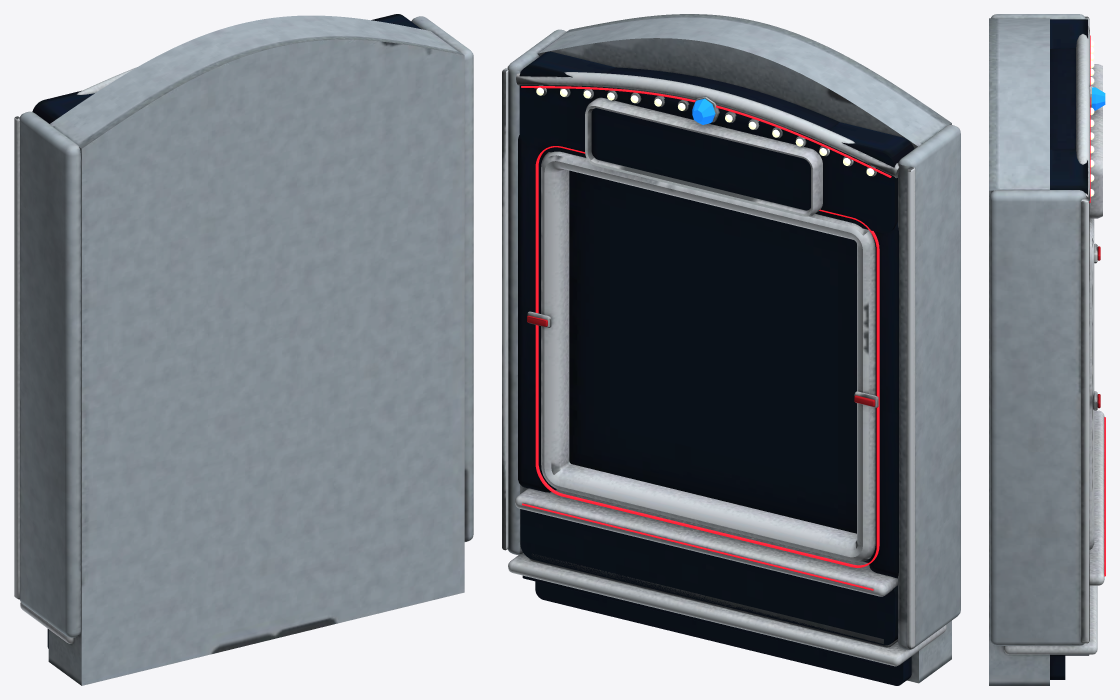
The picture shows the model from 3 angles, left to right: view 1: azimuth 30°, elevation 25°; view 2: azimuth 150°, elevation 25°; view 3: azimuth 270°, elevation 25°; orthographic projection. The views are drawn at different scales.
Parts seen in each view (by area): view 1: Brushed_steel, Clean_mirror_chrome, Navy_enamel; view 2: Navy_enamel, Clean_mirror_chrome, Brushed_steel, Red_pinstripe_glow, Warm_lamp_glow; view 3: Brushed_steel, Clean_mirror_chrome, Navy_enamel, Red_pinstripe_glow, Warm_lamp_glow, Blue_crystal_glow.
Boxes of the visible parts, left/top/right/bottom form: Brushed_steel: left=19, top=15, right=473, bottom=685; Clean_mirror_chrome: left=14, top=67, right=136, bottom=643; Navy_enamel: left=32, top=14, right=421, bottom=648; Navy_enamel: left=518, top=51, right=914, bottom=685; Clean_mirror_chrome: left=502, top=68, right=946, bottom=666; Brushed_steel: left=507, top=14, right=960, bottom=683; Red_pinstripe_glow: left=521, top=86, right=891, bottom=590; Warm_lamp_glow: left=536, top=87, right=874, bottom=175; Brushed_steel: left=989, top=14, right=1086, bottom=685; Clean_mirror_chrome: left=1003, top=16, right=1104, bottom=654; Navy_enamel: left=1050, top=19, right=1088, bottom=679; Red_pinstripe_glow: left=1089, top=35, right=1105, bottom=576; Warm_lamp_glow: left=1090, top=40, right=1094, bottom=196; Blue_crystal_glow: left=1092, top=87, right=1105, bottom=110.
Bounding box in the file's own units: 5.96 × 8.2 × 1.59.
Materials: 7 (4 with a texture image).
